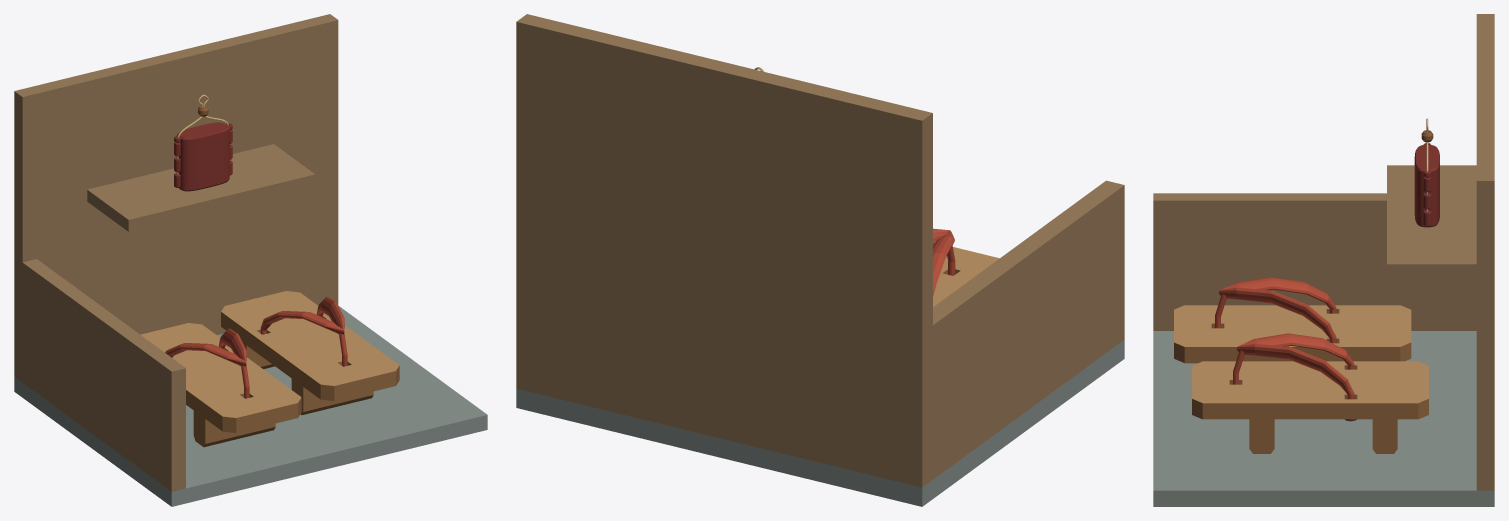
3 renders of one model, left to right at view 1: azimuth 30°, elevation 25°; view 2: azimuth 150°, elevation 25°; view 3: azimuth 270°, elevation 25°, orthographic. The views are drawn at different scales.
Parts seen in each view (by area): view 1: SCENE_ONLY__DressingAlcove, geta__Right_WholeThreeThroughHoleSoleBoard, geta__Left_WholeThreeThroughHoleSoleBoard, geta__Right_WholePaddedVThongAndTwoFlaredRoots, geta__Left_WholePaddedVThongAndTwoFlaredRoots, geta__Left_WholeFrontTransverseTooth, geta__Right_WholeFrontTransverseTooth, inro__WholeNestedCompartment_02, inro__WholeNestedCompartment_00, inro__WholeNestedCompartment_01, inro__WholeReceiverRecessTopLid; view 2: SCENE_ONLY__DressingAlcove, geta__Left_WholeThreeThroughHoleSoleBoard, geta__Left_WholePaddedVThongAndTwoFlaredRoots; view 3: SCENE_ONLY__DressingAlcove, geta__Right_WholeThreeThroughHoleSoleBoard, geta__Left_WholeThreeThroughHoleSoleBoard, geta__Right_WholePaddedVThongAndTwoFlaredRoots, geta__Left_WholePaddedVThongAndTwoFlaredRoots, geta__Right_WholeFrontTransverseTooth, geta__Right_WholeRearTransverseTooth, inro__WholeReceiverRecessTopLid.
Part boxes in pixels (x1,y1,x2,y2): SCENE_ONLY__DressingAlcove: (14, 14, 487, 506); geta__Right_WholeThreeThroughHoleSoleBoard: (221, 291, 399, 400); geta__Left_WholeThreeThroughHoleSoleBoard: (141, 323, 301, 432); geta__Right_WholePaddedVThongAndTwoFlaredRoots: (260, 296, 344, 334); geta__Left_WholePaddedVThongAndTwoFlaredRoots: (165, 328, 246, 366); geta__Left_WholeFrontTransverseTooth: (193, 411, 275, 447); geta__Right_WholeFrontTransverseTooth: (291, 379, 373, 415); inro__WholeNestedCompartment_02: (178, 133, 229, 159); inro__WholeNestedCompartment_00: (178, 164, 229, 191); inro__WholeNestedCompartment_01: (178, 148, 229, 175); inro__WholeReceiverRecessTopLid: (177, 122, 229, 144); SCENE_ONLY__DressingAlcove: (516, 14, 1124, 506); geta__Left_WholeThreeThroughHoleSoleBoard: (933, 247, 999, 306); geta__Left_WholePaddedVThongAndTwoFlaredRoots: (933, 228, 954, 296); SCENE_ONLY__DressingAlcove: (1153, 14, 1494, 506); geta__Right_WholeThreeThroughHoleSoleBoard: (1192, 361, 1428, 419); geta__Left_WholeThreeThroughHoleSoleBoard: (1174, 305, 1411, 363); geta__Right_WholePaddedVThongAndTwoFlaredRoots: (1236, 333, 1356, 421); geta__Left_WholePaddedVThongAndTwoFlaredRoots: (1218, 277, 1336, 343); geta__Right_WholeFrontTransverseTooth: (1249, 419, 1274, 453); geta__Right_WholeRearTransverseTooth: (1372, 419, 1397, 453); inro__WholeReceiverRecessTopLid: (1414, 145, 1439, 175).
Bounding box in the file's own units: 0.44 × 0.4 × 0.38.
